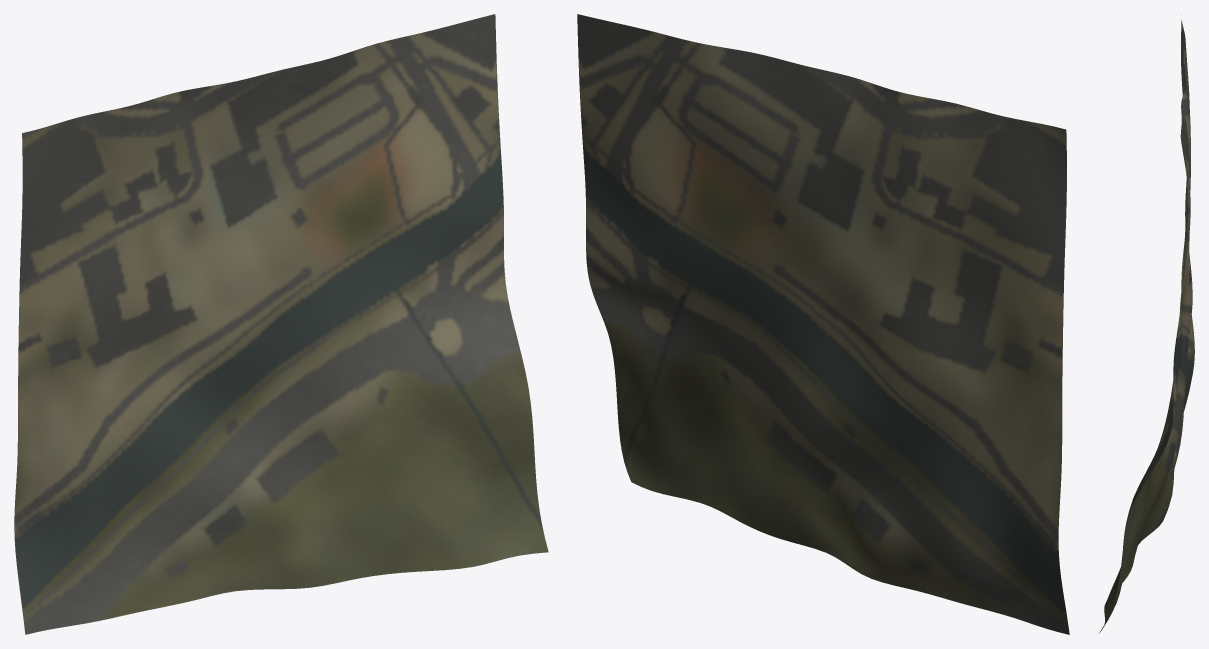
Rendered from ground_mid_08_06.obj.
The picture shows the model from 3 angles, left to right: view 1: azimuth 30°, elevation 25°; view 2: azimuth 150°, elevation 25°; view 3: azimuth 270°, elevation 25°; orthographic projection. The views are drawn at different scales.
Visible parts, largest first — view 1: ground_mid_08_06; view 2: ground_mid_08_06; view 3: ground_mid_08_06.
Part boxes in pixels (box(x1,y1,x2,y2)): ground_mid_08_06: box(14, 14, 548, 634); ground_mid_08_06: box(577, 14, 1069, 634); ground_mid_08_06: box(1099, 19, 1194, 633).
Bounding box in the file's own units: 200 × 200 × 41.45.
Materials: 1 (1 with a texture image).
